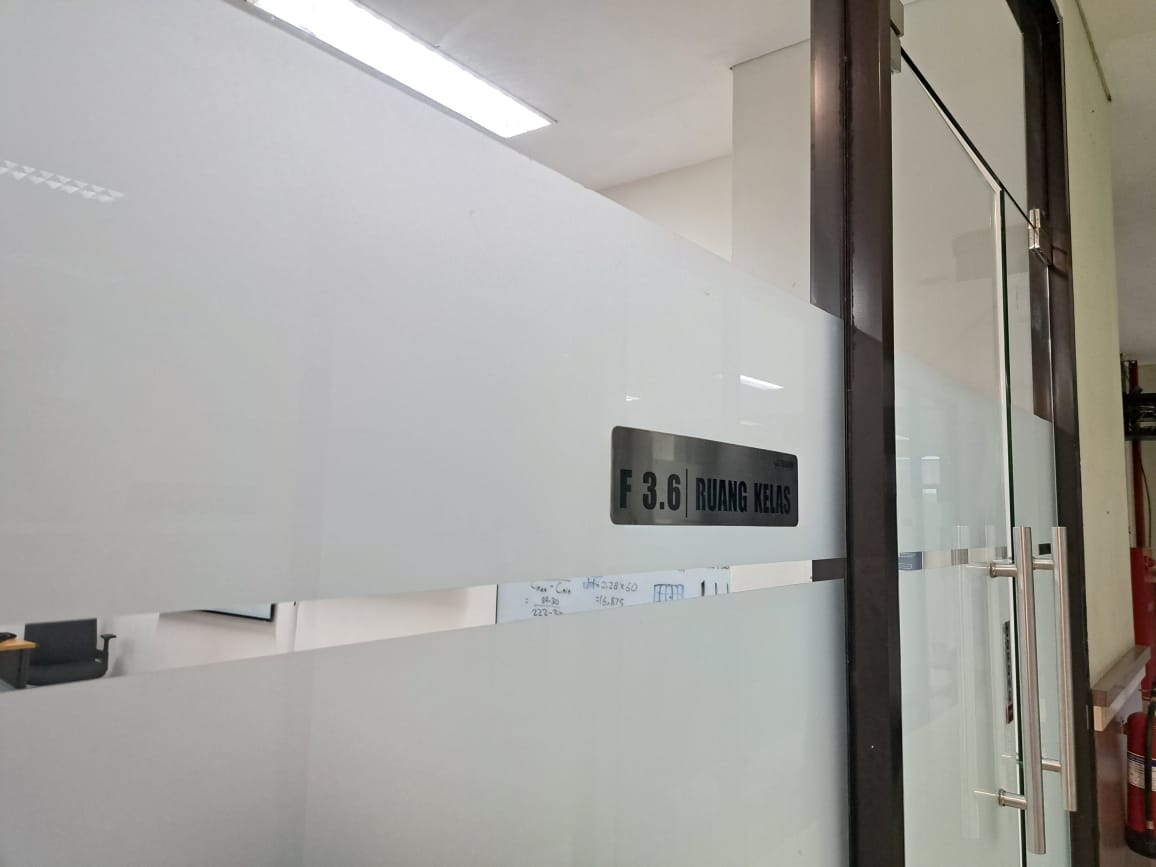ruangan: (596, 417, 803, 538)
